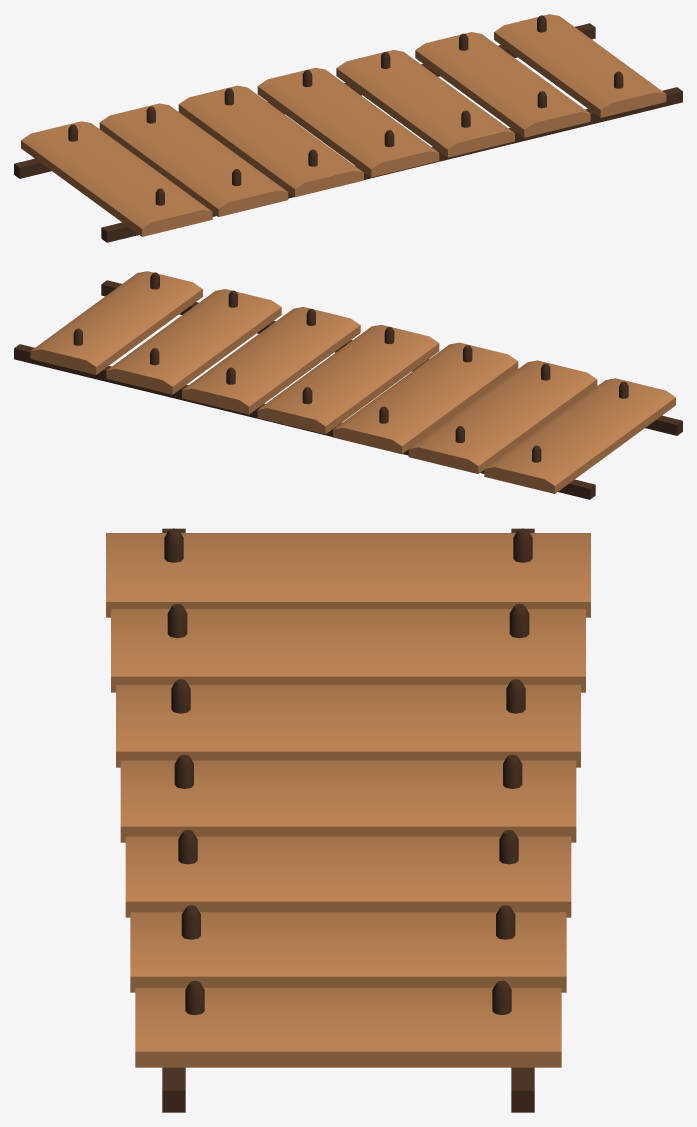
File: Slenthem.fbx
3 views of the same model, one above another, from view 1: azimuth 30°, elevation 25°; view 2: azimuth 150°, elevation 25°; view 3: azimuth 270°, elevation 25° (orthographic). The views are drawn at different scales.
Visible parts, largest first — view 1: Slenthem_Mesh; view 2: Slenthem_Mesh; view 3: Slenthem_Mesh.
Boxes of the visible parts, bbox=[...] form: Slenthem_Mesh: bbox=[14, 14, 682, 242]; Slenthem_Mesh: bbox=[14, 271, 682, 499]; Slenthem_Mesh: bbox=[106, 528, 590, 1112].
Size of the model in its own units: 0.686 by 0.0425 by 0.25.
